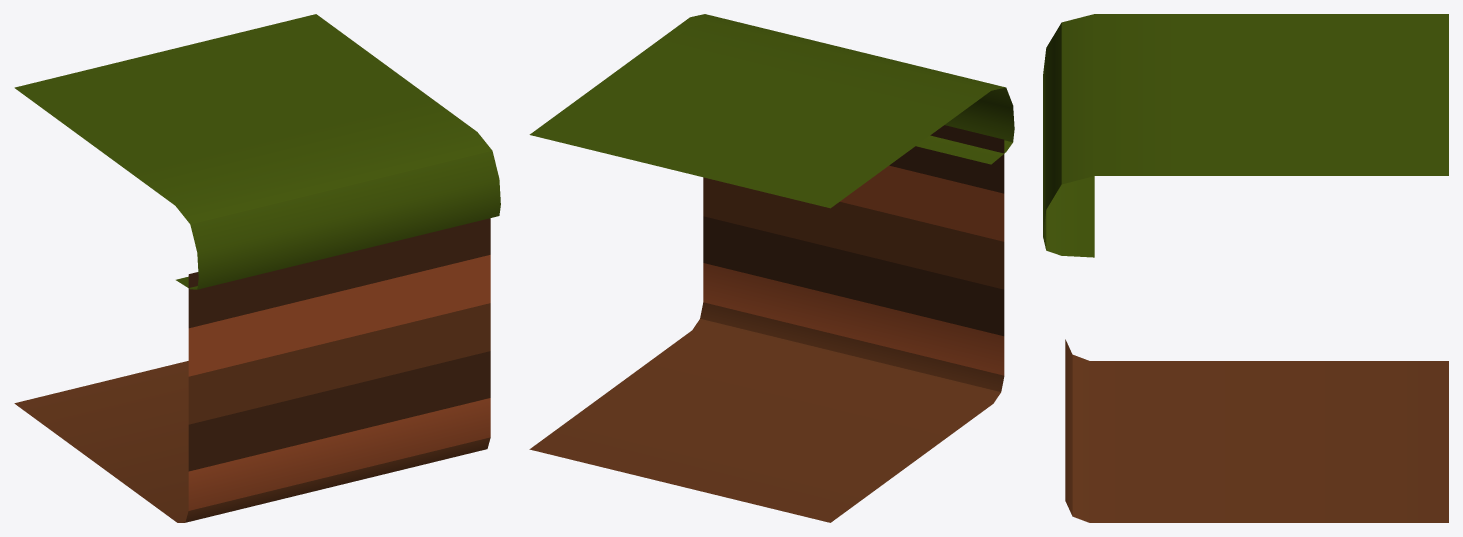
File: Cube_Grass_Side.obj
3 renders of one model, left to right at view 1: azimuth 30°, elevation 25°; view 2: azimuth 150°, elevation 25°; view 3: azimuth 270°, elevation 25°, orthographic. The views are drawn at different scales.
Parts seen in each view (by area): view 1: Cube_Grass_Side_Cube.277; view 2: Cube_Grass_Side_Cube.277; view 3: Cube_Grass_Side_Cube.277.
Boxes of the visible parts, x1,y1,x2,y2 form: Cube_Grass_Side_Cube.277: (14,14,500,522); Cube_Grass_Side_Cube.277: (529,14,1014,522); Cube_Grass_Side_Cube.277: (1043,14,1448,522).
Size of the model in its own units: 2 by 2 by 2.12.
